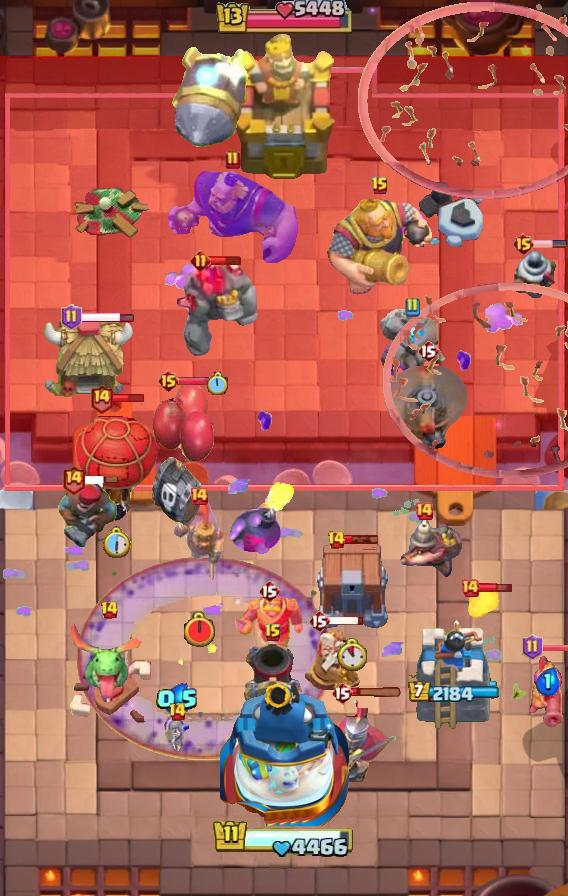baby-dragon: (228, 480, 300, 554)
bandit: (384, 515, 464, 579)
bomb: (313, 544, 391, 630)
bomb-tower: (527, 652, 567, 728)
cannon-cart: (73, 403, 159, 521)
cannoneer-tower: (176, 256, 258, 358)
clock: (212, 818, 356, 860), (213, 0, 355, 38)
dark-prince: (383, 366, 473, 452)
electro-spirit: (156, 684, 199, 716), (536, 668, 561, 697)
electro-wizard: (67, 624, 151, 702)
elixir: (183, 611, 218, 649), (101, 526, 131, 559), (337, 638, 367, 671), (206, 371, 228, 396)
elixir-collector: (302, 625, 362, 695)
elixir-golem-big: (172, 494, 226, 604)
emote: (81, 312, 136, 325), (177, 376, 229, 387), (351, 686, 403, 697), (478, 581, 513, 595), (110, 392, 146, 404), (327, 614, 365, 625), (344, 535, 380, 546), (208, 255, 242, 266), (532, 239, 568, 249), (83, 475, 119, 485), (540, 643, 568, 652)
firecracker: (235, 593, 304, 650)
giant-skeleton: (323, 195, 437, 299)
goblin: (164, 716, 190, 754)
goblin-drill: (513, 244, 559, 298)
ice-spirit-evolution: (465, 589, 501, 621)
king-tower: (219, 678, 349, 826), (231, 35, 337, 182)
lightning: (167, 170, 302, 270)
musketeer: (242, 640, 304, 708)
phoenix-small: (55, 479, 121, 549)
prince: (40, 313, 134, 403)
queen-tower: (409, 616, 497, 731)
rocket: (76, 556, 332, 760)
royal-recruit-evolution: (148, 381, 216, 531)
selected: (407, 681, 499, 705)
skeleton-barrel: (358, 0, 568, 200), (384, 281, 568, 479)
text: (89, 382, 114, 413), (62, 464, 87, 495), (512, 232, 535, 256), (157, 369, 180, 393), (62, 304, 83, 330), (522, 634, 543, 660), (417, 339, 439, 363), (258, 579, 280, 603), (308, 609, 330, 633), (331, 681, 353, 705), (190, 250, 211, 271), (189, 486, 209, 506), (414, 501, 434, 521), (460, 578, 480, 598), (100, 600, 120, 620), (326, 530, 345, 550), (168, 702, 187, 722), (371, 176, 389, 196), (264, 623, 282, 643), (225, 150, 241, 170), (404, 297, 420, 317)
valkyrie-evolution: (377, 309, 447, 377)
wall-breaker-evolution: (321, 694, 399, 782)
x-bow: (170, 45, 249, 149)
